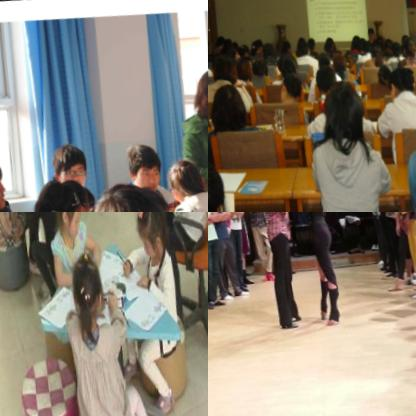head: (66, 246, 112, 325), (92, 176, 181, 212), (321, 75, 367, 136), (120, 137, 165, 193), (50, 138, 93, 193), (208, 75, 248, 132), (40, 175, 96, 212), (166, 153, 208, 201), (131, 212, 169, 257), (385, 62, 416, 100), (208, 156, 229, 212), (312, 58, 338, 95), (0, 151, 15, 212), (278, 68, 303, 101), (213, 50, 239, 81), (50, 212, 85, 234), (196, 65, 208, 112), (234, 55, 253, 81), (376, 59, 396, 83), (332, 47, 349, 74), (281, 52, 300, 75), (317, 45, 334, 68), (251, 56, 270, 76), (401, 31, 416, 50), (298, 39, 312, 56), (366, 23, 379, 41), (262, 40, 276, 56), (326, 33, 338, 51), (392, 36, 404, 54), (239, 41, 252, 57), (351, 29, 364, 45), (385, 33, 396, 50), (372, 38, 384, 53), (215, 33, 227, 47), (282, 37, 293, 52), (251, 37, 261, 53), (359, 35, 370, 49), (307, 33, 317, 48), (208, 37, 211, 53)
